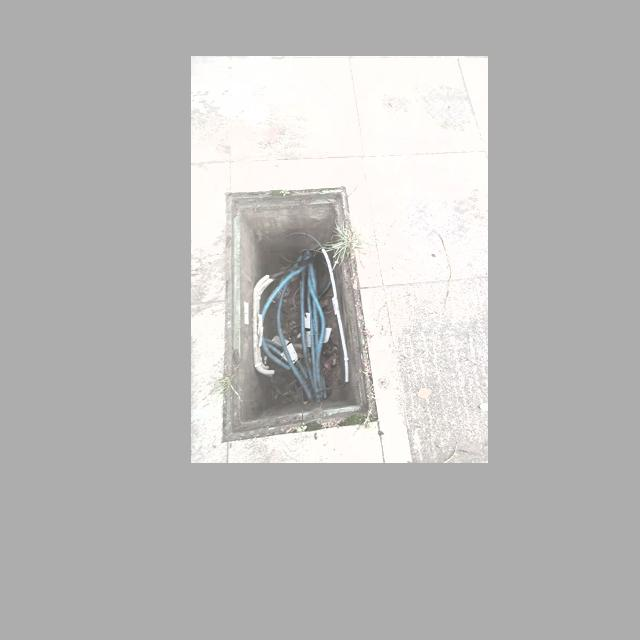lose: (220, 186, 373, 429)
